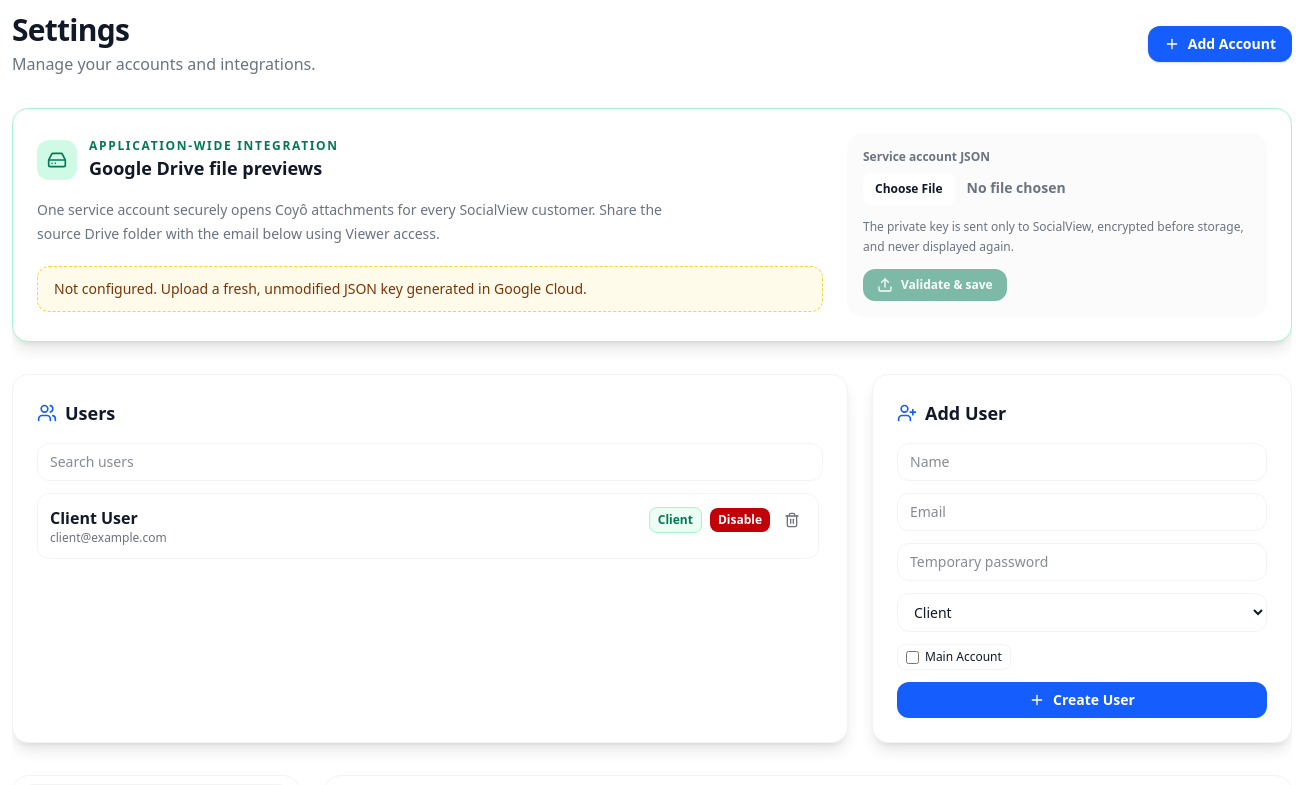
Test: Settings page › disables an active user through the dynamic user route
The image size is (1304, 785).
Click the button "Disable". click: click(740, 520)
box: [710,508,770,532]
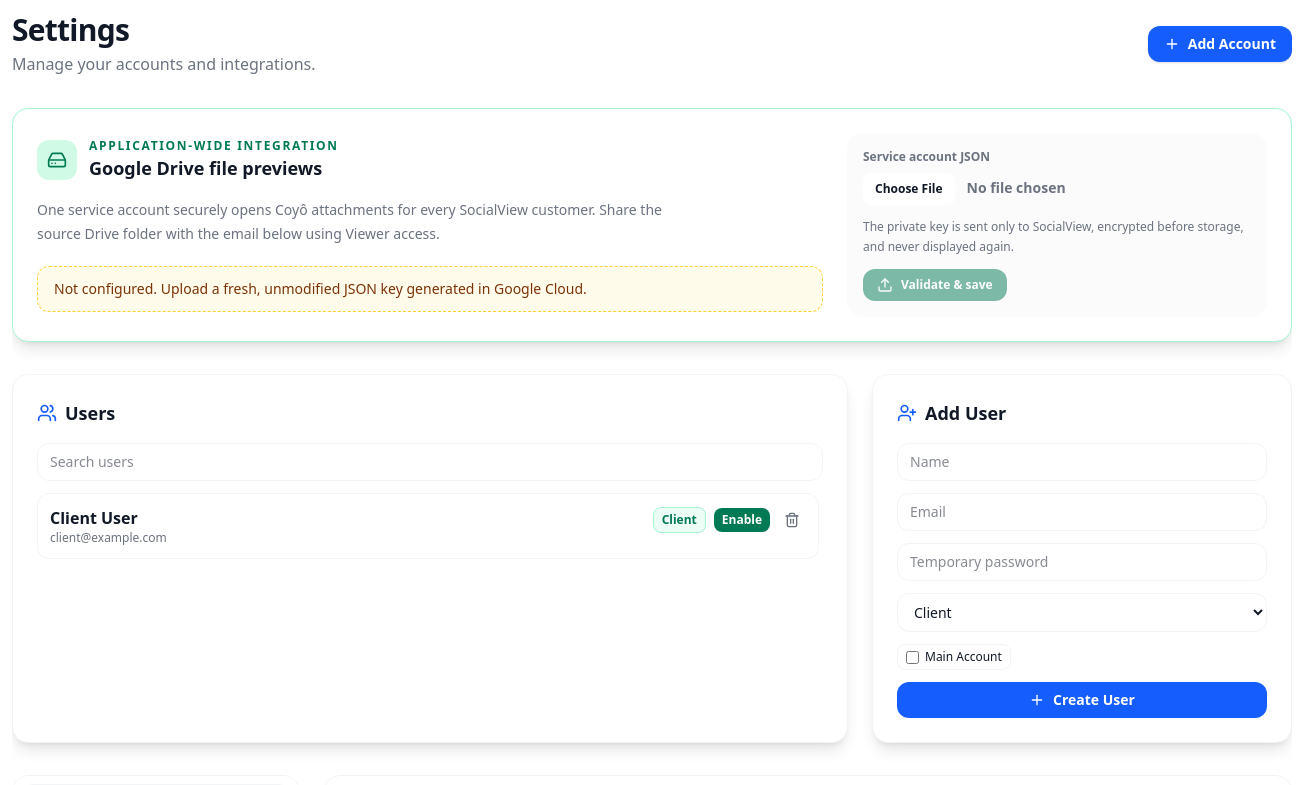
Check: the button "Enable" is shown, box [714,508,770,532]
